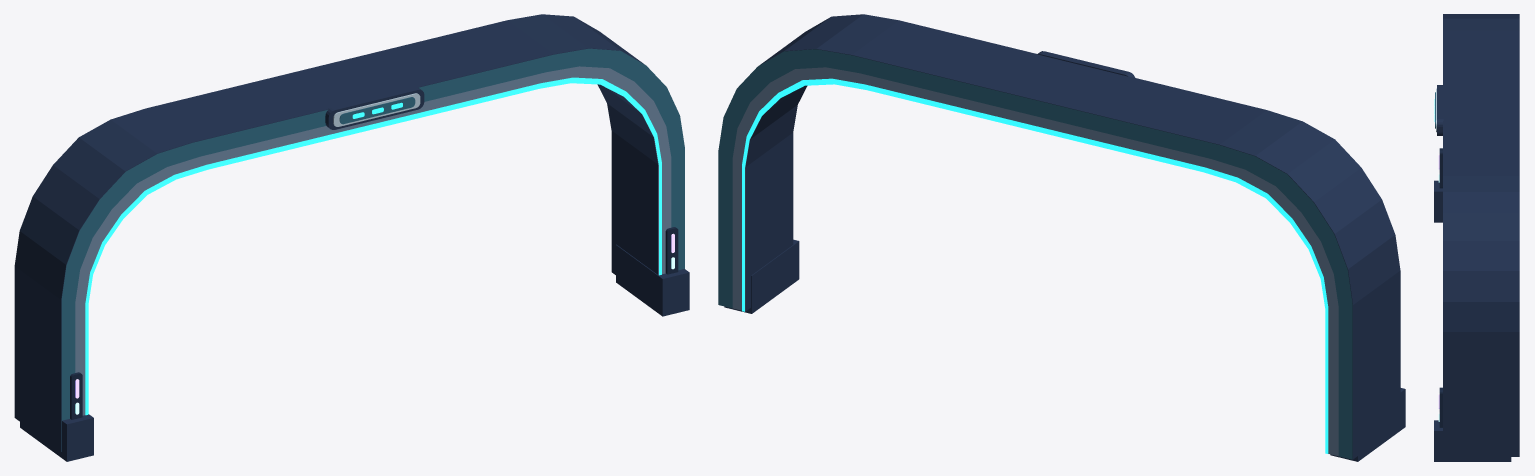
Rendered from deepsea-portal.glb.
3 renders of one model, left to right at view 1: azimuth 30°, elevation 25°; view 2: azimuth 150°, elevation 25°; view 3: azimuth 270°, elevation 25°, orthographic. The views are drawn at different scales.
Visible parts, largest first — view 1: deepsea-portal_DeepNavy, deepsea-portal_DeepTeal, deepsea-portal_DeepPanel, deepsea-portal_DeepCyan, deepsea-portal_DeepGraphite; view 2: deepsea-portal_DeepNavy, deepsea-portal_DeepTeal, deepsea-portal_DeepPanel, deepsea-portal_DeepCyan; view 3: deepsea-portal_DeepNavy, deepsea-portal_DeepGraphite.
Boxes of the visible parts, x1=… form: deepsea-portal_DeepNavy: x1=14, y1=14, x2=689, y2=461; deepsea-portal_DeepTeal: x1=61, y1=48, x2=684, y2=451; deepsea-portal_DeepPanel: x1=75, y1=66, x2=671, y2=415; deepsea-portal_DeepCyan: x1=85, y1=77, x2=661, y2=415; deepsea-portal_DeepGraphite: x1=70, y1=227, x2=678, y2=419; deepsea-portal_DeepNavy: x1=724, y1=14, x2=1405, y2=461; deepsea-portal_DeepTeal: x1=718, y1=49, x2=1352, y2=459; deepsea-portal_DeepPanel: x1=732, y1=67, x2=1338, y2=456; deepsea-portal_DeepCyan: x1=742, y1=78, x2=1328, y2=453; deepsea-portal_DeepNavy: x1=1434, y1=14, x2=1519, y2=461; deepsea-portal_DeepGraphite: x1=1439, y1=148, x2=1442, y2=427.
Bounding box in the file's own units: 16.16 × 7.05 × 2.36.
